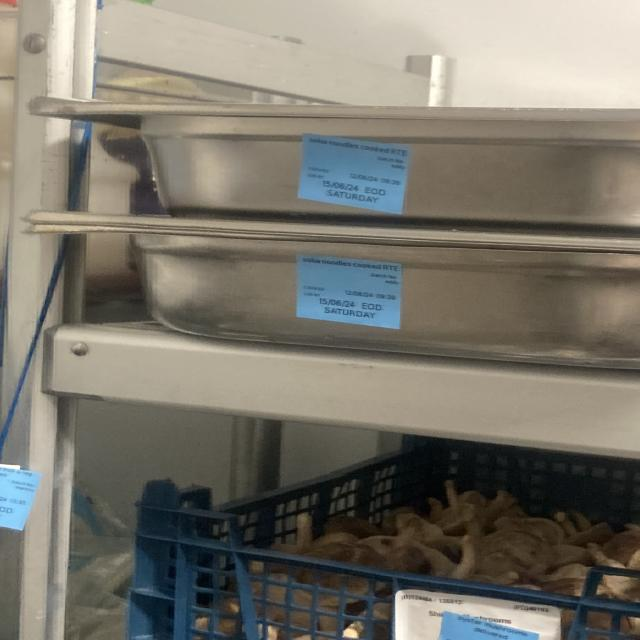product-labels: (297, 134, 416, 215), (295, 256, 407, 330)
